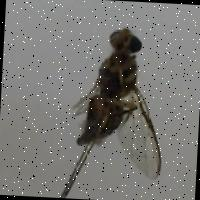Oriental-fruit-fly: (67, 17, 174, 185)
